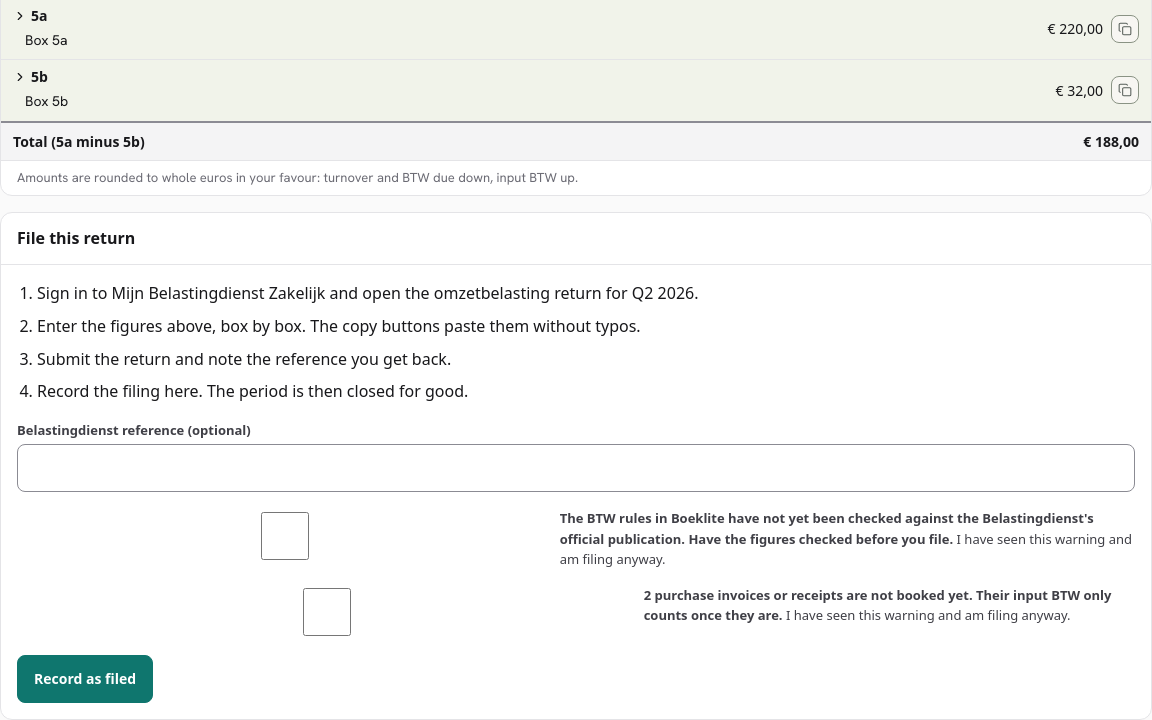
it: one BTW return › files only once every warning is acknowledged and the lock is confirmed
(page scrolled)
Expected: the button with test id "vat-file-submit" is disabled, 17,655 -> 153,703
Click the checkbox with test id "vat-ack-provisional_ruleset".
click(285, 536)  # box 21,512 -> 549,560
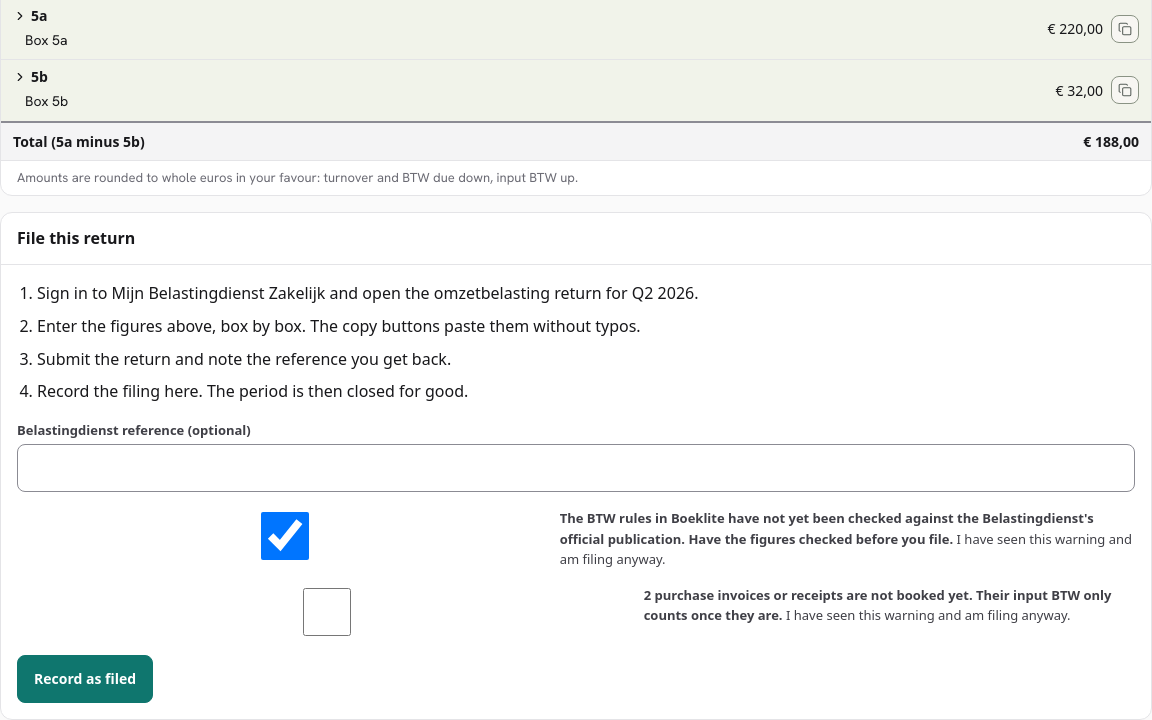
Expected: the button with test id "vat-file-submit" is disabled, 17,655 -> 153,703
Click the checkbox with test id "vat-ack-unposted_purchases".
click(327, 612)  # box 21,588 -> 633,636
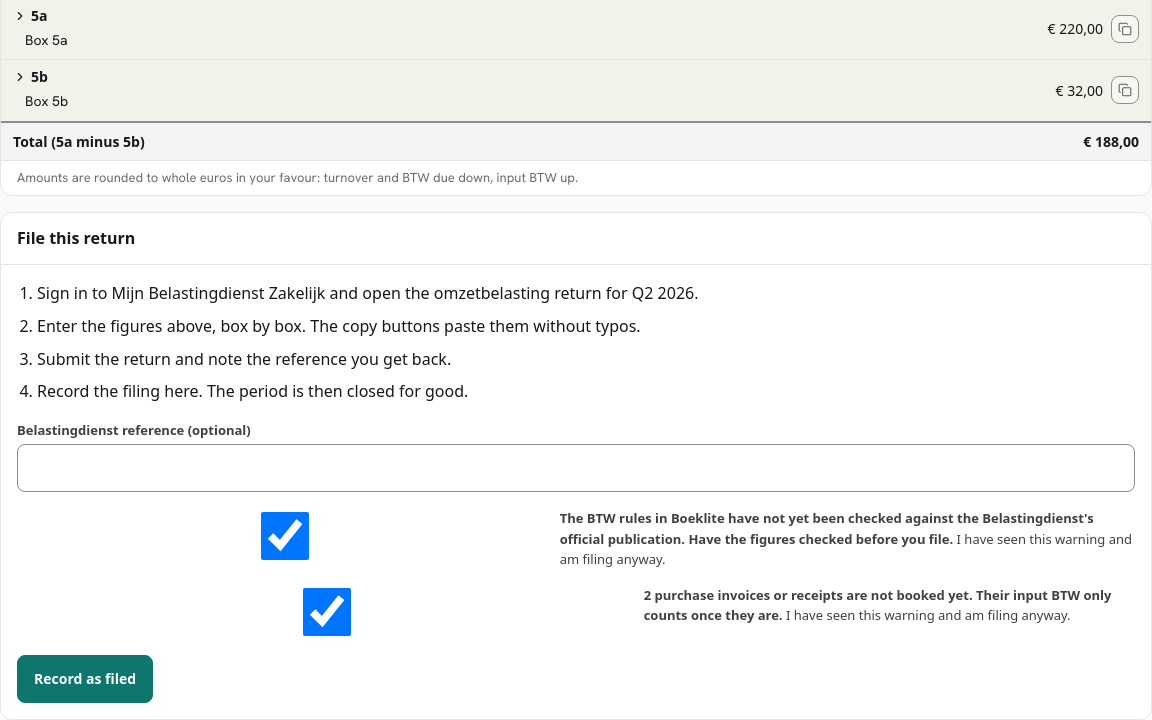
Expected: the button with test id "vat-file-submit" is enabled, 17,655 -> 153,703
Type " OB-123 " into the field with test id "vat-reference".
click(576, 468); type(" OB-123 ")  # box 17,444 -> 1135,492
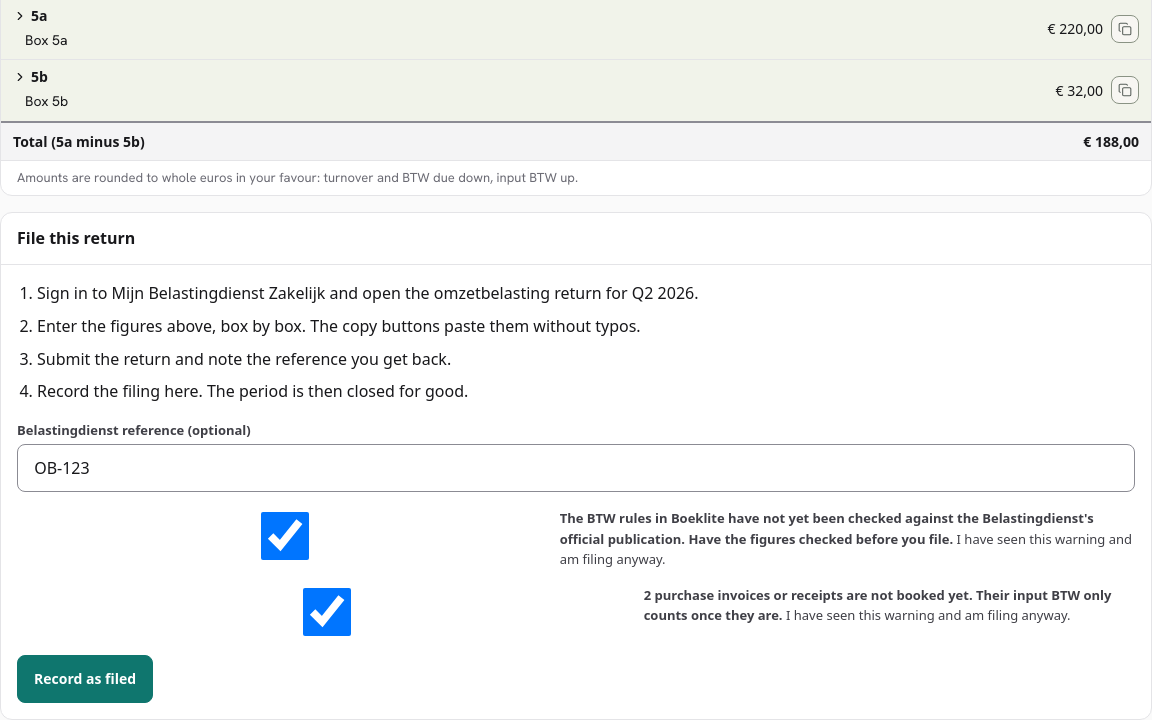
Click the button with test id "vat-file-submit".
click(85, 679)  # box 17,655 -> 153,703
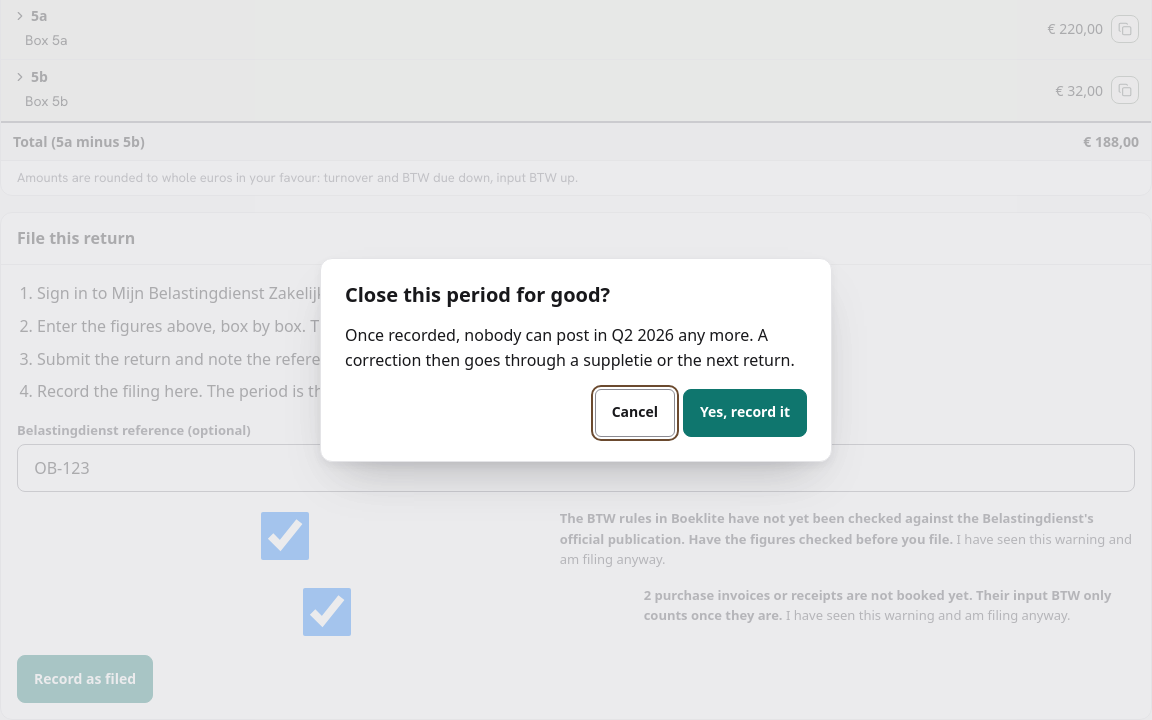
Click the button with test id "vat-file-confirm-yes".
click(745, 413)  # box 683,389 -> 807,437
(page scrolled)
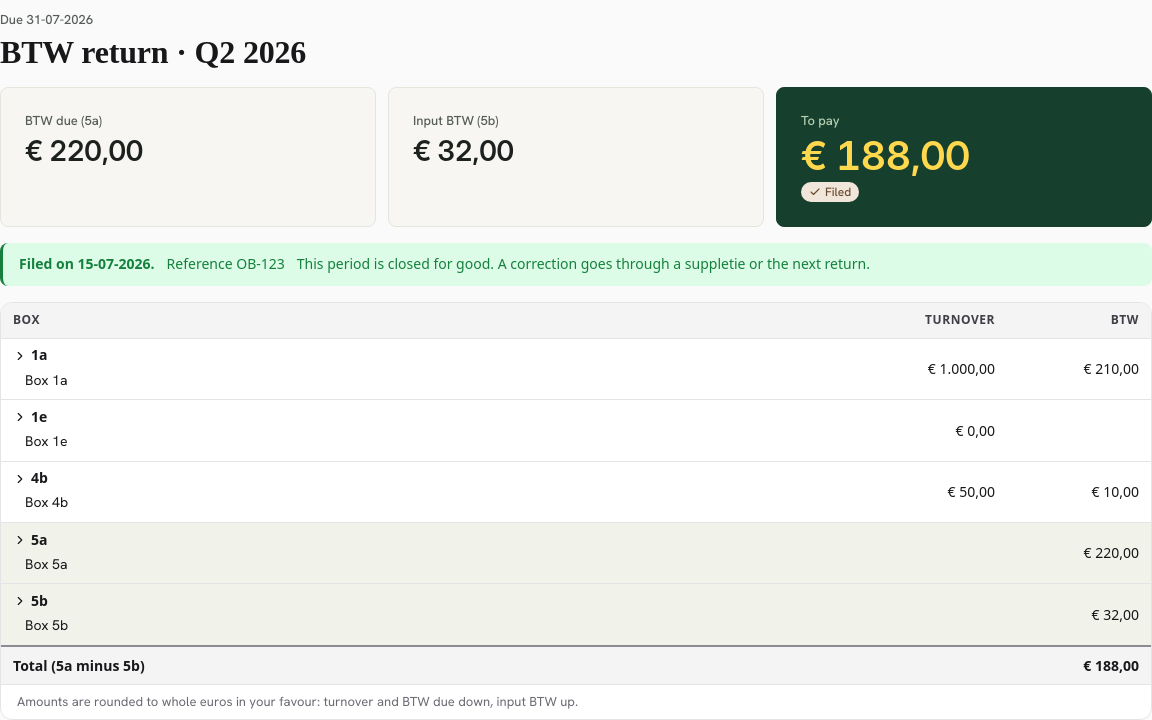
Result: the message with test id "vat-filed" is shown at 0,243 -> 1151,286
Result: the message with test id "vat-filed" shows "OB-123" at 167,254 -> 285,273
Result: the element with test id "vat-file" is gone
